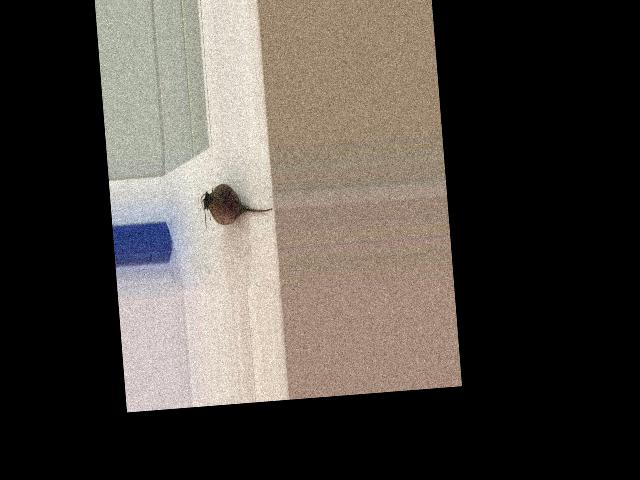beet: (199, 180, 274, 230)
